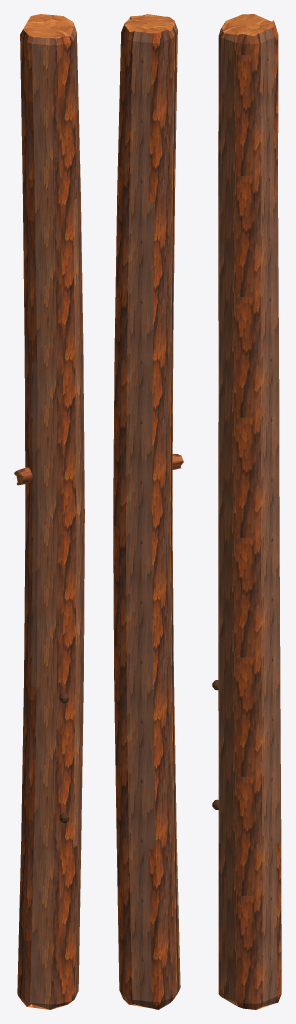
File: lift_post.glb
3 renders of one model, left to right at view 1: azimuth 30°, elevation 25°; view 2: azimuth 210°, elevation 25°; view 3: azimuth 270°, elevation 25°, orthographic.
Parts seen in each view (by area): view 1: model; view 2: model; view 3: model.
Boxes of the visible parts, <box> form: model: <box>14,14,84,1009</box>; model: <box>113,14,183,1009</box>; model: <box>212,14,281,1009</box>.
Bounding box in the file's own units: 0.2793 × 4.08 × 0.2622.
Materials: 7 (7 with a texture image).
